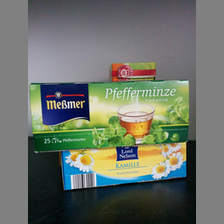tea: (31, 80, 192, 151), (58, 142, 189, 191)
